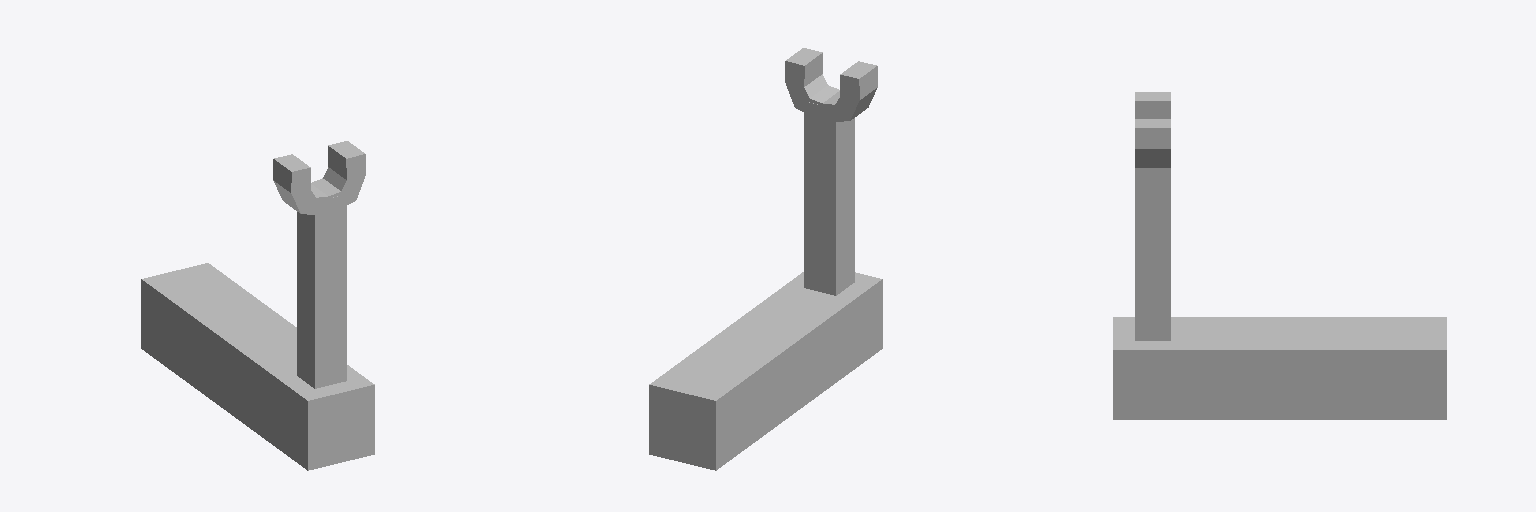
File: AssistUpperLeft.obj
3 views of the same model, side by side, from view 1: azimuth 30°, elevation 25°; view 2: azimuth 150°, elevation 25°; view 3: azimuth 270°, elevation 25° (orthographic).
Parts seen in each view (by area): view 1: UpperLeft; view 2: UpperLeft; view 3: UpperLeft.
Part boxes in pixels (bbox=[...]): UpperLeft: bbox=[141, 141, 374, 470]; UpperLeft: bbox=[649, 48, 882, 470]; UpperLeft: bbox=[1113, 92, 1446, 419].
Size of the model in its own units: 0.07 by 0.2625 by 0.2709.